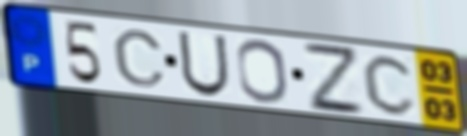5: (62, 18, 105, 85)
C: (360, 52, 419, 118), (110, 27, 169, 89)
O: (234, 37, 292, 106)
U: (175, 29, 232, 99)
Z: (300, 38, 368, 117)
